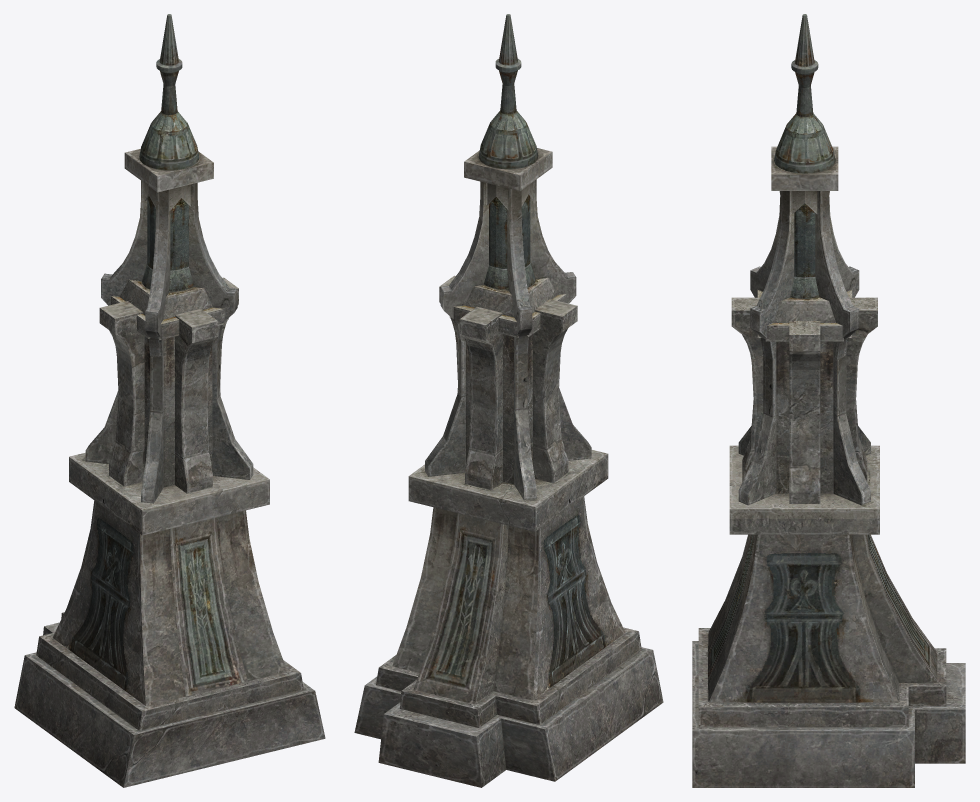
Rendered from bg_lut_lucastle_fountain02b_sm_kss.FBX.
3 views of the same model, side by side, from view 1: azimuth 30°, elevation 25°; view 2: azimuth 150°, elevation 25°; view 3: azimuth 270°, elevation 25° (orthographic). The views are drawn at different scales.
Visible parts, largest first — view 1: bg_lut_lucastle_fountain02b_sm_kss; view 2: bg_lut_lucastle_fountain02b_sm_kss; view 3: bg_lut_lucastle_fountain02b_sm_kss.
Boxes of the visible parts, x1,y1,x2,y2 form: bg_lut_lucastle_fountain02b_sm_kss: (14, 14, 325, 787); bg_lut_lucastle_fountain02b_sm_kss: (354, 14, 663, 787); bg_lut_lucastle_fountain02b_sm_kss: (692, 14, 965, 787).
Bounding box in the file's own units: 111 × 372 × 128.
